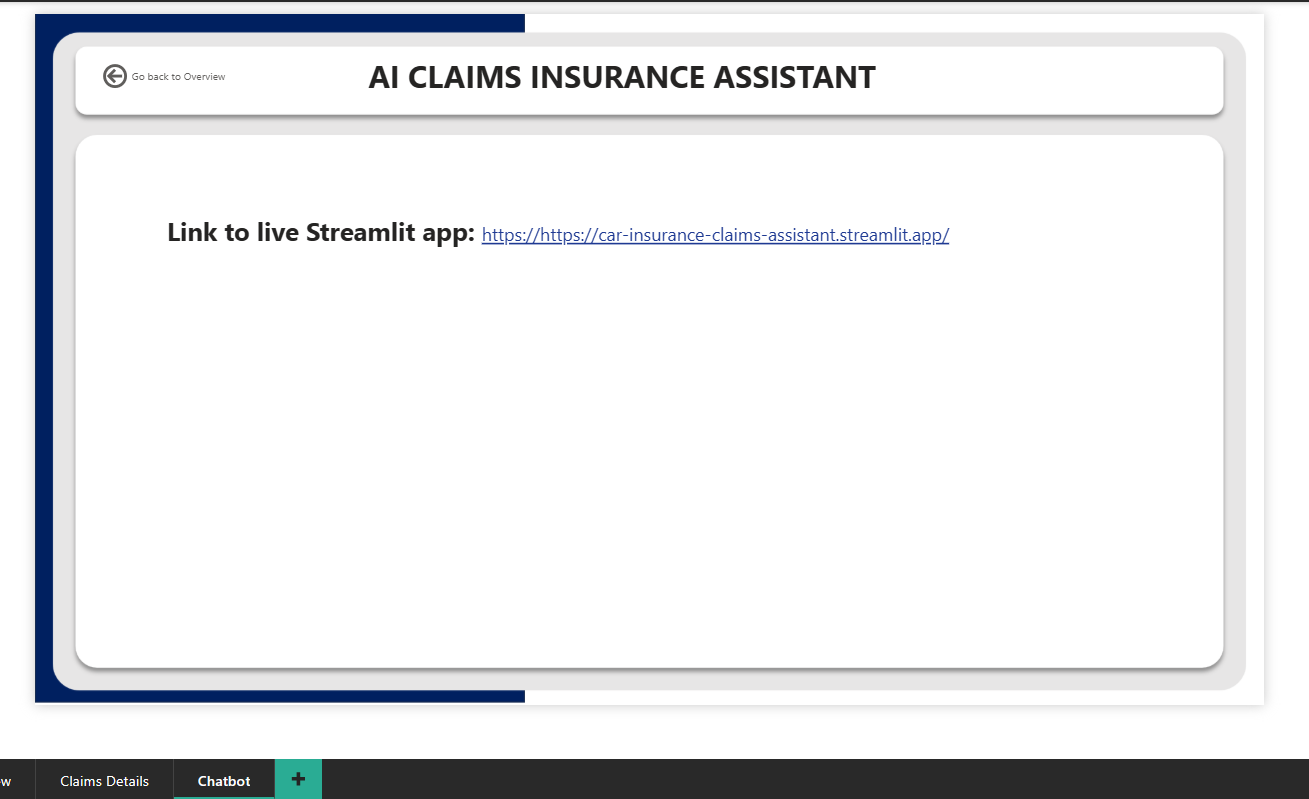

This screenshot's page, from the dashboard's own definition file:
{"tool":"powerbi","page":{"name":"Chatbot","canvas":[1280,720],"ordinal":2},"visuals":[{"type":"textbox","box":[174.3,37.1,875.7,54.3],"z":0},{"type":"textbox","box":[132.9,202.9,917.1,75.7],"z":2},{"type":"actionButton","box":[66.2,44.5,166.7,40],"z":3}]}

Visuals, with their boxes on the page's 1280x720 design canvas (x1, y1, x2, y2). These are canvas units, not pixel positions in the 1309x799 screenshot, which may show the page scaled, cropped or inside an application window:
textbox: (x1=174, y1=37, x2=1050, y2=91)
textbox: (x1=133, y1=203, x2=1050, y2=279)
actionButton: (x1=66, y1=44, x2=233, y2=84)
